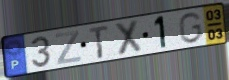1: (152, 14, 169, 51)
3: (28, 35, 52, 69)
G: (178, 11, 205, 45)
T: (87, 23, 111, 60)
X: (114, 18, 144, 58)
Z: (53, 29, 82, 66)
